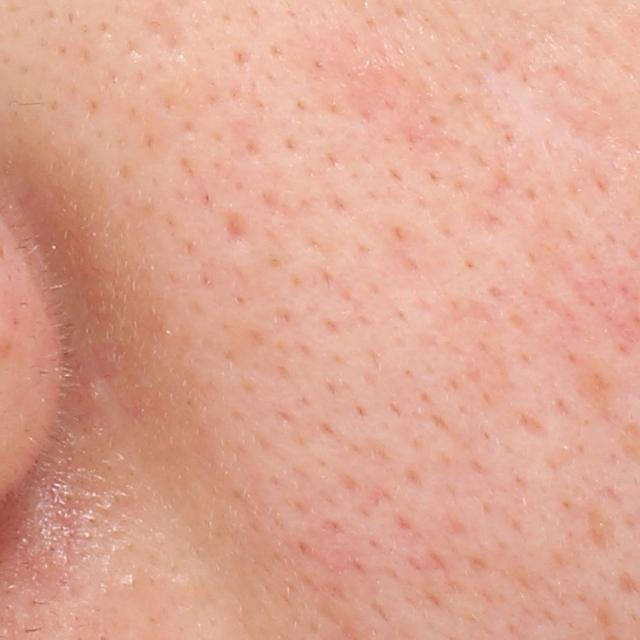atrophic_scar: (141, 6, 189, 65), (588, 502, 625, 553), (220, 210, 260, 257)
